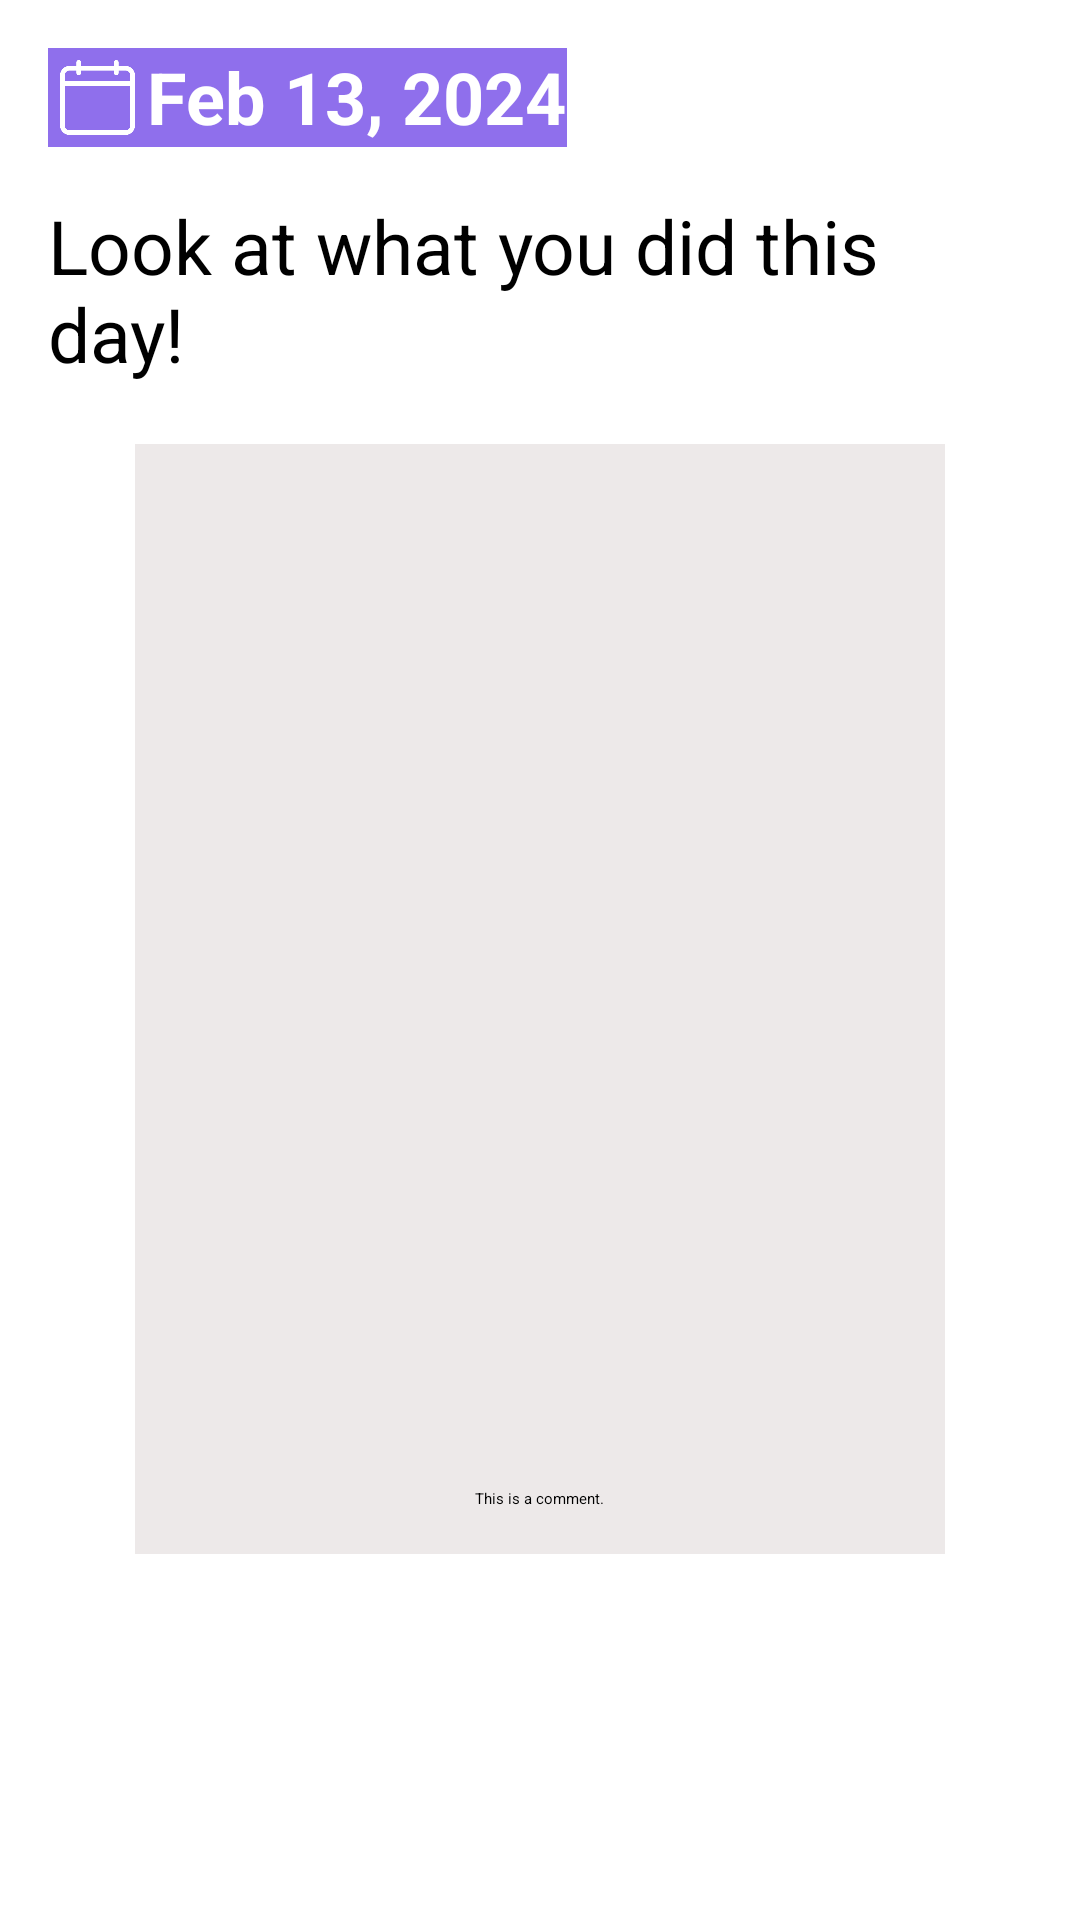

Icons on this 1080w x 1920h Android screen, each with its box as (x1, y1, x2, y2):
calendar: (60, 60, 135, 135)
